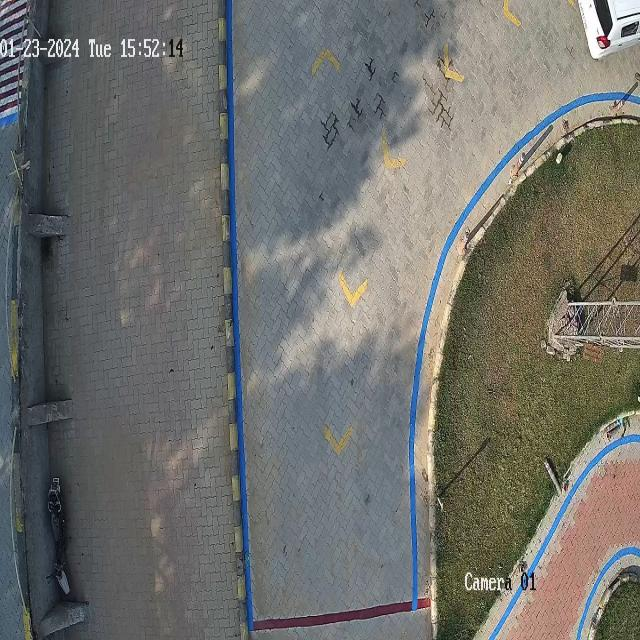car: (579, 0, 640, 60)
